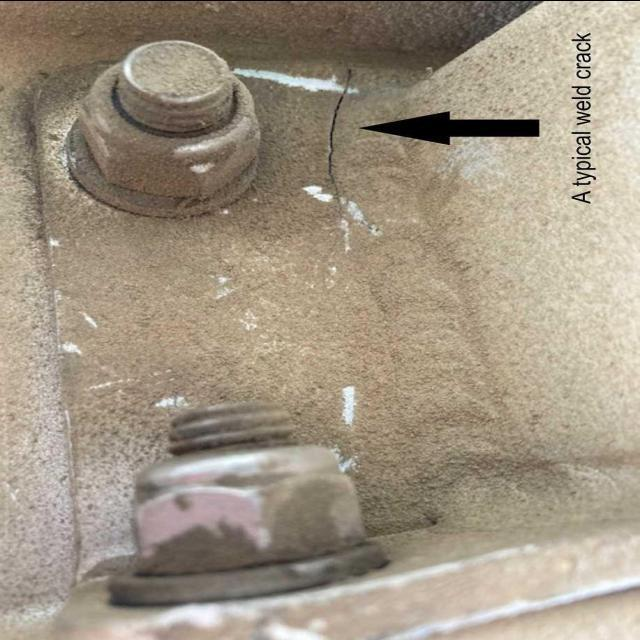Crack: (323, 63, 357, 238)
